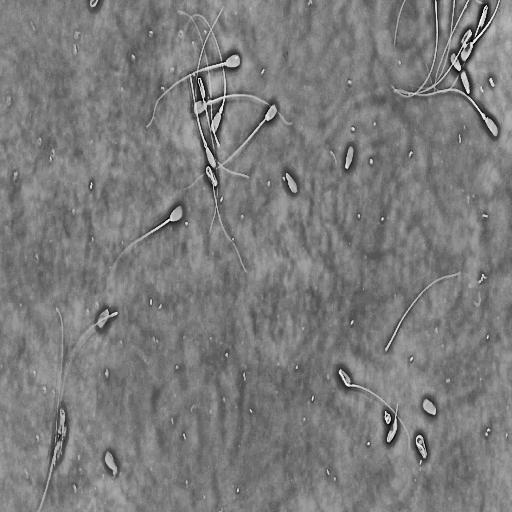coiled-tail: (386, 404, 398, 443), (415, 435, 427, 459)
dirt-particles: (383, 407, 393, 426)
folded-tail: (190, 74, 249, 179), (426, 4, 489, 92), (339, 371, 410, 449), (206, 166, 246, 272), (421, 30, 471, 93), (198, 77, 218, 233)
loose-head: (284, 168, 299, 197), (104, 450, 119, 476), (96, 306, 111, 330), (344, 143, 355, 172), (422, 397, 437, 417), (460, 68, 471, 95), (450, 51, 462, 73)
loose-tail: (383, 268, 463, 354), (391, 0, 439, 98), (433, 0, 470, 94), (53, 304, 66, 462), (433, 0, 456, 85), (393, 0, 406, 49)
normal: (178, 97, 281, 193), (142, 50, 244, 131), (108, 199, 186, 292), (337, 365, 412, 459), (189, 73, 251, 180), (391, 85, 501, 144), (424, 1, 492, 93), (183, 10, 228, 136), (203, 162, 250, 276), (415, 25, 474, 94), (191, 93, 297, 129), (197, 76, 219, 236), (459, 0, 501, 63), (385, 402, 399, 446), (415, 432, 428, 462)
proximal-droplet: (219, 106, 223, 114), (482, 113, 485, 120)
